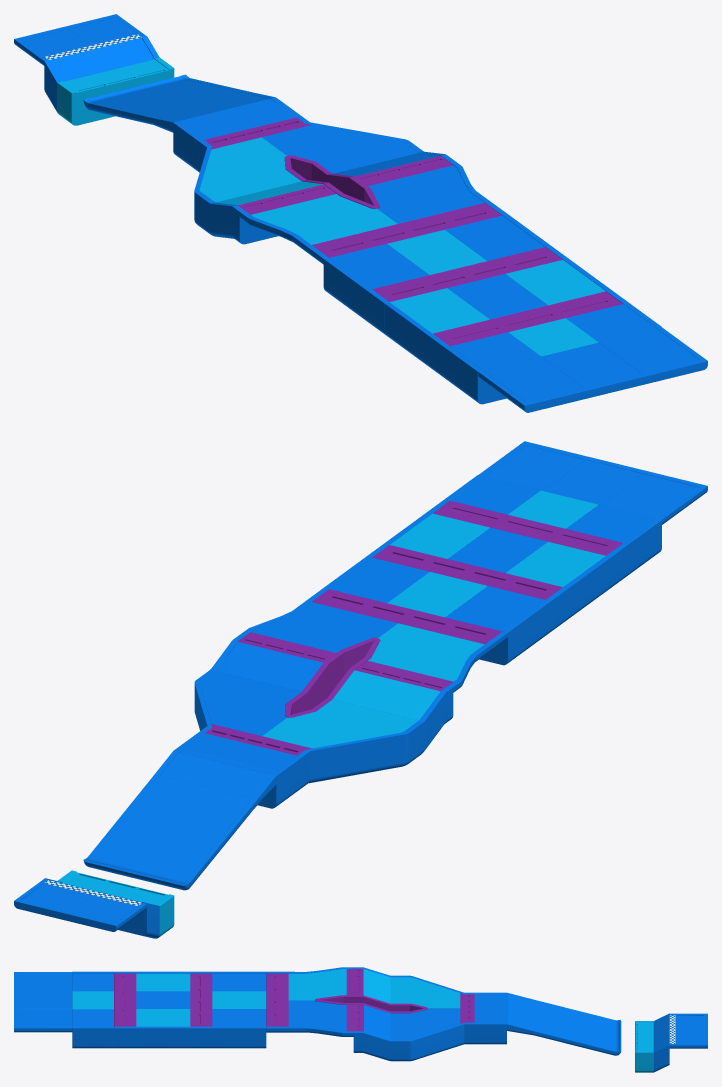
File: DoorDashPlatformCollisionMesh.fbx
The picture shows the model from 3 angles, top to bottom: view 1: azimuth 30°, elevation 25°; view 2: azimuth 150°, elevation 25°; view 3: azimuth 270°, elevation 25°; orthographic projection. The views are drawn at different scales.
Visible parts, largest first — view 1: Combined_Mesh__root__scene__3_36, Combined_Mesh__root__scene__3_17, Combined_Mesh__root__scene__3_3, Combined_Mesh__root__scene__3_4, Combined_Mesh__root__scene__3_29, Combined_Mesh__root__scene__3_39, Combined_Mesh__root__scene__2_28, Combined_Mesh__root__scene__12, Combined_Mesh__root__scene__14, Combined_Mesh__root__scene__13, Combined_Mesh__root__scene__3_35, Combined_Mesh__root__scene__3_26 (+28 smaller); view 2: Combined_Mesh__root__scene__2_28, Combined_Mesh__root__scene__3_36, Combined_Mesh__root__scene__3_38, Combined_Mesh__root__scene__3_3, Combined_Mesh__root__scene__3_17, Combined_Mesh__root__scene__3_29, Combined_Mesh__root__scene__3_4, Combined_Mesh__root__scene__12, Combined_Mesh__root__scene__13, Combined_Mesh__root__scene__14, Combined_Mesh__root__scene__3_2, Combined_Mesh__root__scene__3_23 (+25 smaller); view 3: Combined_Mesh__root__scene__3_36, Combined_Mesh__root__scene__2_28, Combined_Mesh__root__scene__3_34, Combined_Mesh__root__scene__3_41, Combined_Mesh__root__scene__3_51, Combined_Mesh__root__scene__3_17, Combined_Mesh__root__scene__3_3, Combined_Mesh__root__scene__3_4, Combined_Mesh__root__scene__3_29, Combined_Mesh__root__scene__12, Combined_Mesh__root__scene__13, Combined_Mesh__root__scene__14 (+35 smaller).
Boxes of the visible parts, x1,y1,x2,y2 form: Combined_Mesh__root__scene__3_36: [484, 328, 698, 401]; Combined_Mesh__root__scene__3_17: [262, 125, 418, 173]; Combined_Mesh__root__scene__3_3: [199, 137, 301, 202]; Combined_Mesh__root__scene__3_4: [251, 194, 397, 244]; Combined_Mesh__root__scene__3_29: [368, 165, 484, 223]; Combined_Mesh__root__scene__3_39: [57, 57, 174, 125]; Combined_Mesh__root__scene__2_28: [89, 76, 250, 116]; Combined_Mesh__root__scene__12: [312, 203, 502, 257]; Combined_Mesh__root__scene__14: [372, 247, 562, 301]; Combined_Mesh__root__scene__13: [433, 291, 622, 346]; Combined_Mesh__root__scene__3_35: [478, 327, 707, 412]; Combined_Mesh__root__scene__3_26: [447, 274, 547, 319]; Combined_Mesh__root__scene__2_28: [89, 776, 251, 883]; Combined_Mesh__root__scene__3_36: [483, 445, 698, 518]; Combined_Mesh__root__scene__3_38: [305, 685, 453, 783]; Combined_Mesh__root__scene__3_3: [262, 699, 418, 748]; Combined_Mesh__root__scene__3_17: [199, 671, 300, 735]; Combined_Mesh__root__scene__3_29: [251, 602, 397, 652]; Combined_Mesh__root__scene__3_4: [368, 623, 484, 681]; Combined_Mesh__root__scene__12: [312, 589, 502, 644]; Combined_Mesh__root__scene__13: [433, 500, 622, 555]; Combined_Mesh__root__scene__14: [372, 545, 562, 599]; Combined_Mesh__root__scene__3_2: [332, 670, 440, 720]; Combined_Mesh__root__scene__3_23: [216, 641, 323, 691]; Combined_Mesh__root__scene__3_36: [18, 973, 72, 1026]; Combined_Mesh__root__scene__2_28: [531, 1000, 620, 1049]; Combined_Mesh__root__scene__3_34: [353, 1023, 464, 1061]; Combined_Mesh__root__scene__3_41: [190, 1026, 266, 1048]; Combined_Mesh__root__scene__3_51: [114, 1026, 190, 1048]; Combined_Mesh__root__scene__3_17: [390, 1008, 460, 1039]; Combined_Mesh__root__scene__3_3: [390, 977, 460, 1008]; Combined_Mesh__root__scene__3_4: [288, 969, 346, 1000]; Combined_Mesh__root__scene__3_29: [288, 1000, 346, 1031]; Combined_Mesh__root__scene__12: [266, 973, 288, 1026]; Combined_Mesh__root__scene__13: [114, 973, 136, 1026]; Combined_Mesh__root__scene__14: [190, 973, 212, 1026].
Bounding box in the file's own units: 171 × 70.97 × 764.
